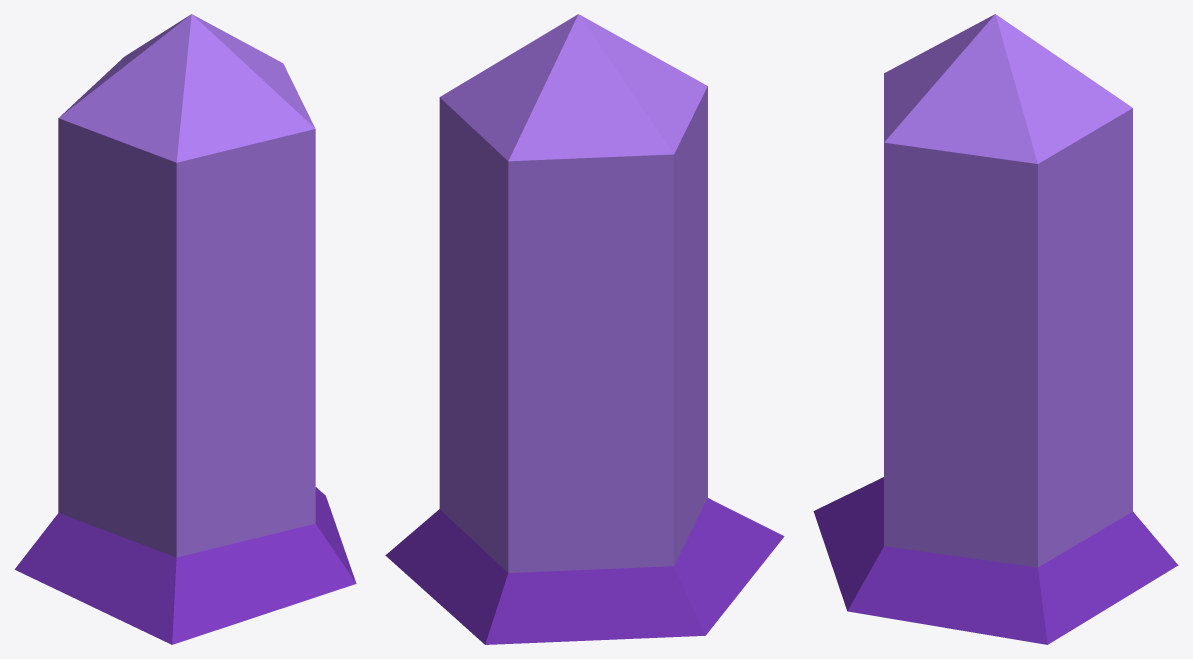
File: crystal_001_grp.fbx
3 views of the same model, side by side, from view 1: azimuth 30°, elevation 25°; view 2: azimuth 150°, elevation 25°; view 3: azimuth 270°, elevation 25° (orthographic). The views are drawn at different scales.
Parts seen in each view (by area): view 1: crystal_001_grp; view 2: crystal_001_grp; view 3: crystal_001_grp.
Boxes of the visible parts, x1,y1,x2,y2 form: crystal_001_grp: (14, 14, 356, 644); crystal_001_grp: (385, 14, 784, 644); crystal_001_grp: (813, 14, 1178, 644).
Bounding box in the file's own units: 30 × 50 × 30.
